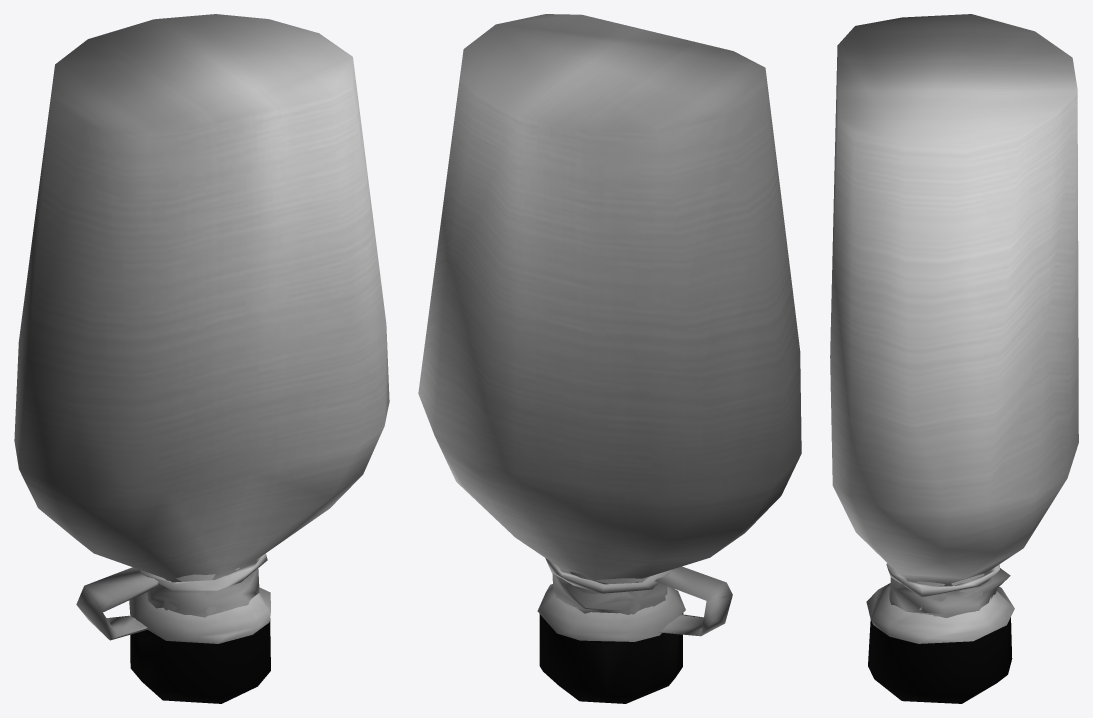
The model's file is AuthenticCanteen.fbx.
3 renders of one model, left to right at view 1: azimuth 30°, elevation 25°; view 2: azimuth 150°, elevation 25°; view 3: azimuth 270°, elevation 25°, orthographic.
Parts seen in each view (by area): view 1: Canteen; view 2: Canteen; view 3: Canteen.
Part boxes in pixels (x1,y1,x2,y2): Canteen: (14, 14, 389, 703); Canteen: (418, 14, 801, 703); Canteen: (830, 14, 1078, 703).
Bounding box in the file's own units: 0.0933 × 0.1548 × 0.0576.
